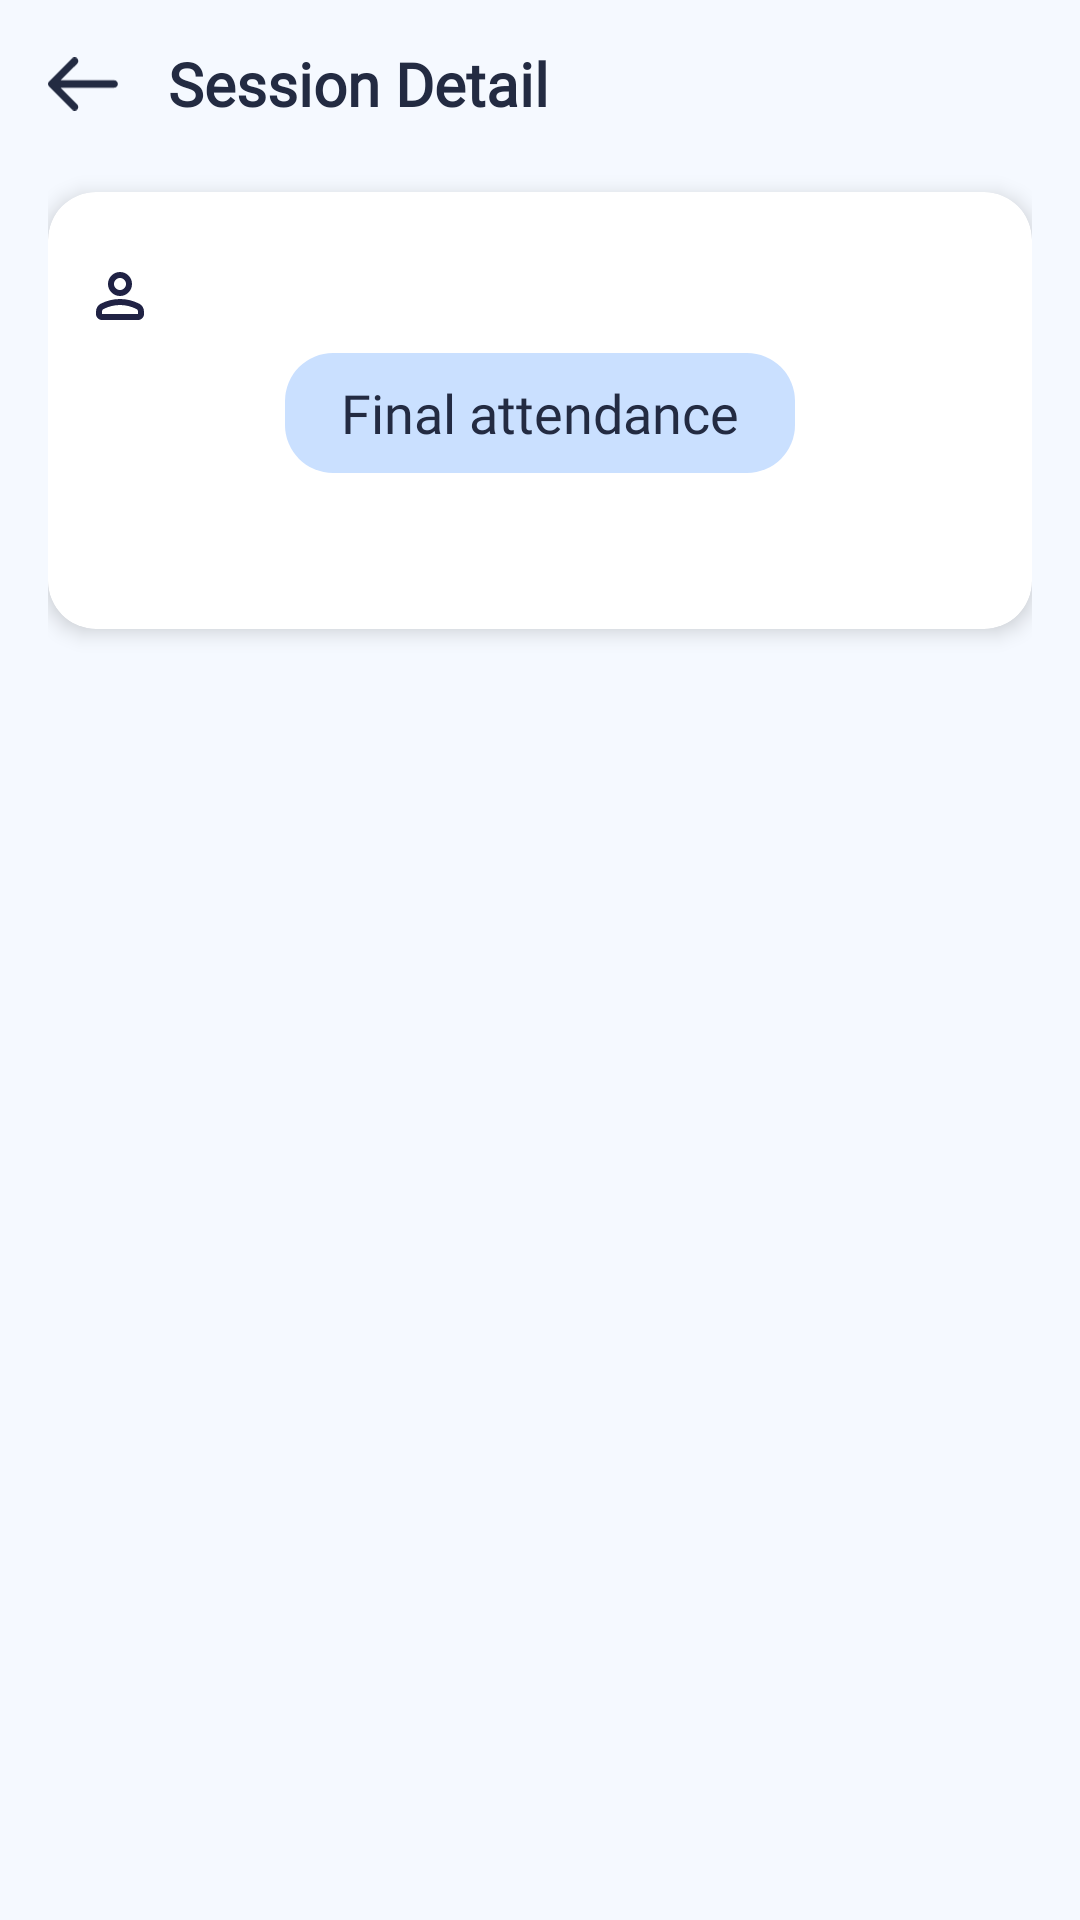

Locate icon controls on the screen. Image size 1080×1920, boxes as (x1, y1, x2, y2).
Back: (48, 57, 118, 111)
student: (96, 272, 144, 320)
